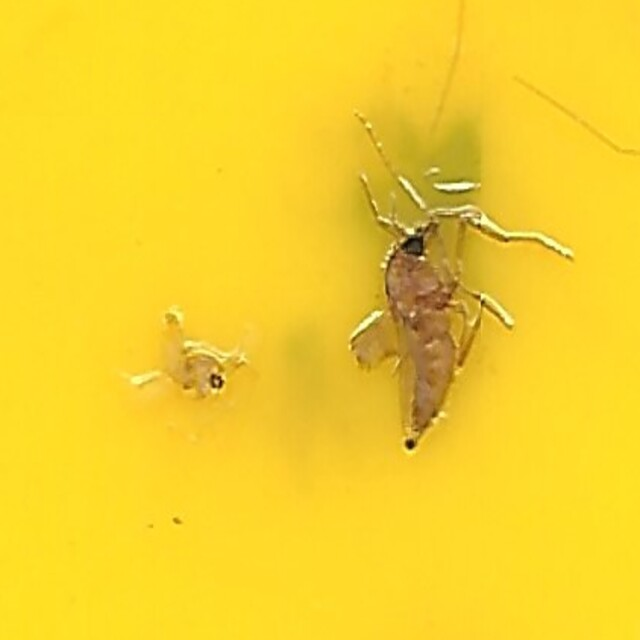Nematocera: (350, 197, 488, 443), (152, 305, 241, 404)
